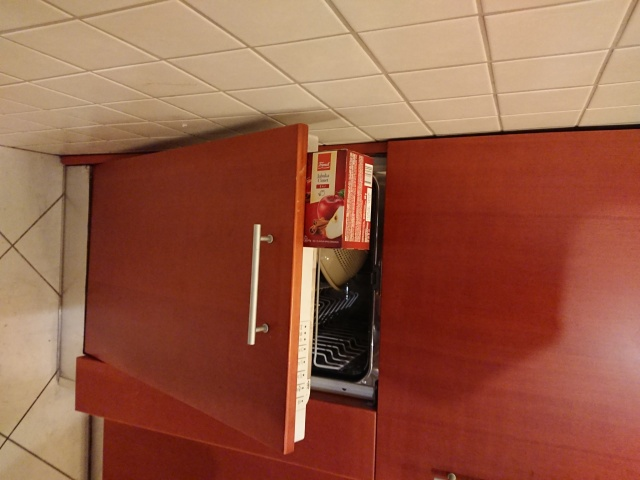Franck Apple Cinnamon Tea 60g: (296, 146, 378, 253)
